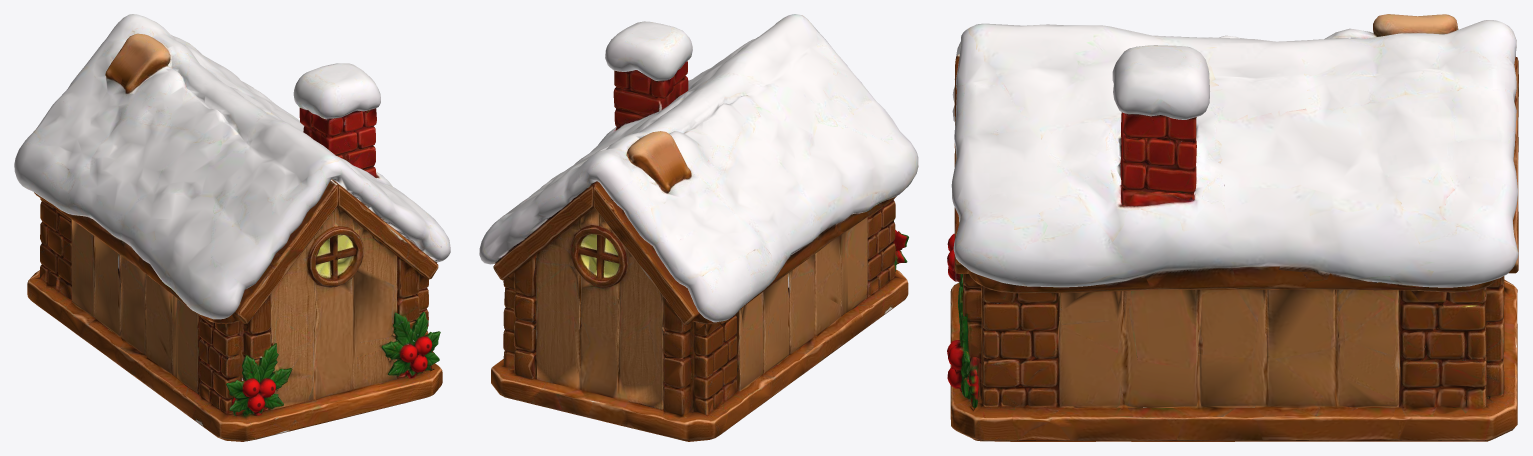
File: casita.glb
3 views of the same model, side by side, from view 1: azimuth 30°, elevation 25°; view 2: azimuth 150°, elevation 25°; view 3: azimuth 270°, elevation 25° (orthographic). The views are drawn at different scales.
Bounding box in the file's own units: 1.29 × 1.35 × 1.9.
Materials: 1 (1 with a texture image).
